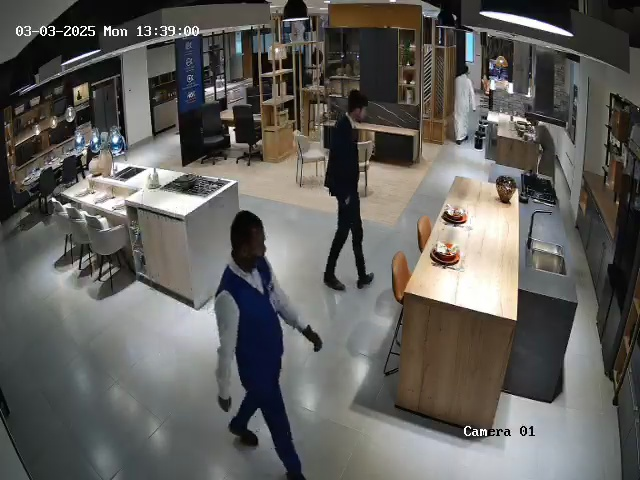employee: (214, 210, 323, 480), (322, 90, 375, 291)
male: (453, 65, 476, 145)
